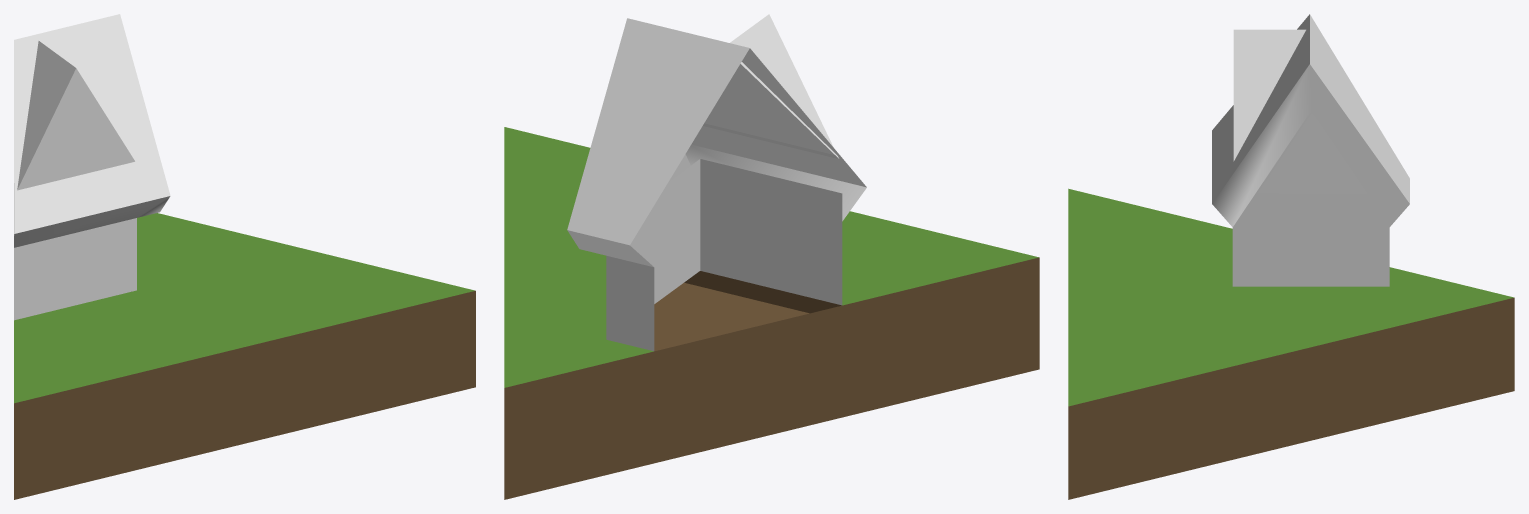
Rendered from Casa_Cantonera_D.fbx.
3 renders of one model, left to right at view 1: azimuth 30°, elevation 25°; view 2: azimuth 150°, elevation 25°; view 3: azimuth 270°, elevation 25°, orthographic. The views are drawn at different scales.
Visible parts, largest first — view 1: Casa_Cantonera_D, DetallTeulada.002, DetallCantonada.002; view 2: Casa_Cantonera_D, DetallCantonada.002, DetallTeulada.002; view 3: Casa_Cantonera_D, DetallCantonada.002, DetallTeulada.002, DetallAltell.001.
Part boxes in pixels (x1=…): Casa_Cantonera_D: x1=14, y1=14, x2=475, y2=499; DetallTeulada.002: x1=17, y1=41, x2=134, y2=190; DetallCantonada.002: x1=14, y1=218, x2=136, y2=320; Casa_Cantonera_D: x1=504, y1=18, x2=1039, y2=499; DetallCantonada.002: x1=630, y1=159, x2=842, y2=305; DetallTeulada.002: x1=703, y1=14, x2=838, y2=158; Casa_Cantonera_D: x1=1068, y1=14, x2=1514, y2=499; DetallCantonada.002: x1=1232, y1=193, x2=1369, y2=286; DetallTeulada.002: x1=1233, y1=29, x2=1305, y2=161; DetallAltell.001: x1=1256, y1=111, x2=1366, y2=193.
Size of the model in its own units: 100 by 70 by 86.6.
